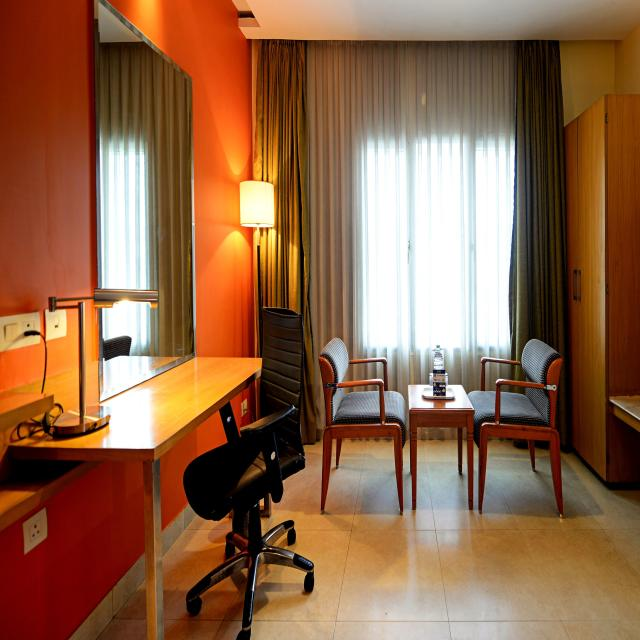Chair: (178, 303, 320, 640), (465, 334, 570, 524), (317, 332, 407, 516)
